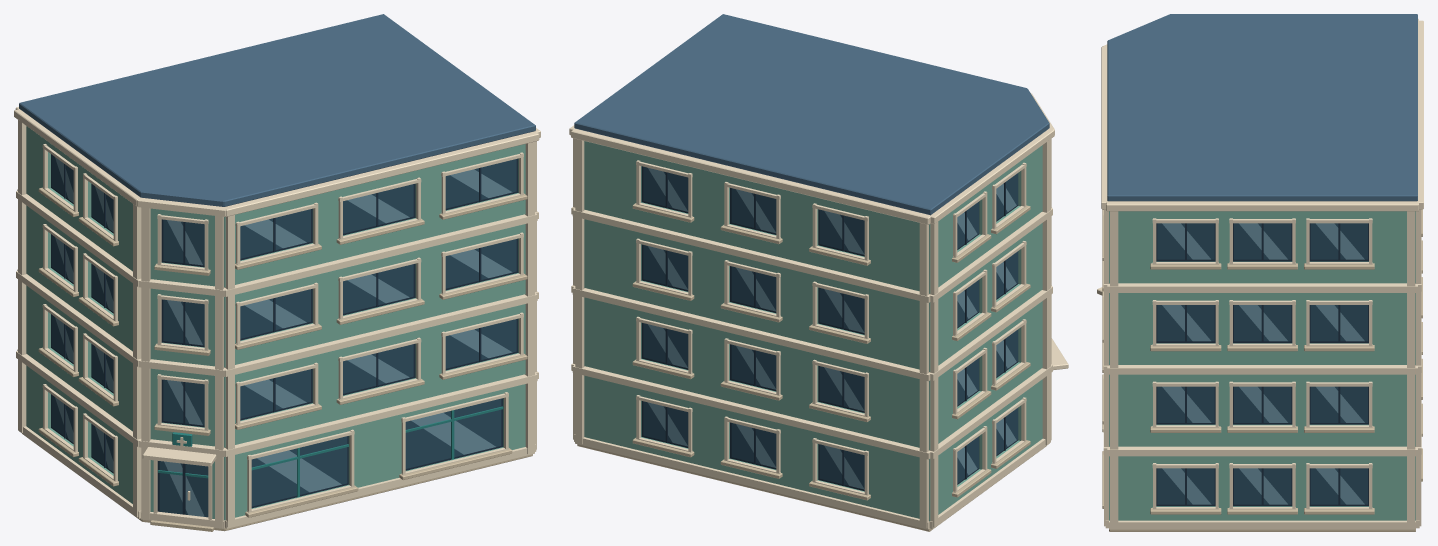
File: corner_clinic.glb
The picture shows the model from 3 angles, left to right: view 1: azimuth 30°, elevation 25°; view 2: azimuth 150°, elevation 25°; view 3: azimuth 270°, elevation 25°; orthographic projection. The views are drawn at different scales.
Visible parts, largest first — view 1: CornerClinic_StaticMesh; view 2: CornerClinic_StaticMesh; view 3: CornerClinic_StaticMesh.
Part boxes in pixels (x1=…): CornerClinic_StaticMesh: x1=14, y1=14, x2=540, y2=531; CornerClinic_StaticMesh: x1=569, y1=14, x2=1068, y2=531; CornerClinic_StaticMesh: x1=1097, y1=14, x2=1423, y2=531.
Bounding box in the file's own units: 15.08 × 12.63 × 11.08.
